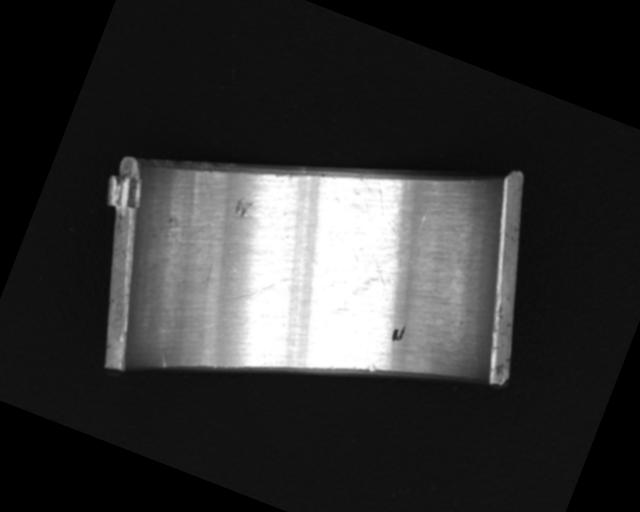blot: (342, 245, 403, 311), (388, 321, 408, 346)
bruise: (231, 194, 254, 220), (366, 363, 377, 374)
nick: (225, 257, 292, 319), (155, 353, 170, 369)
